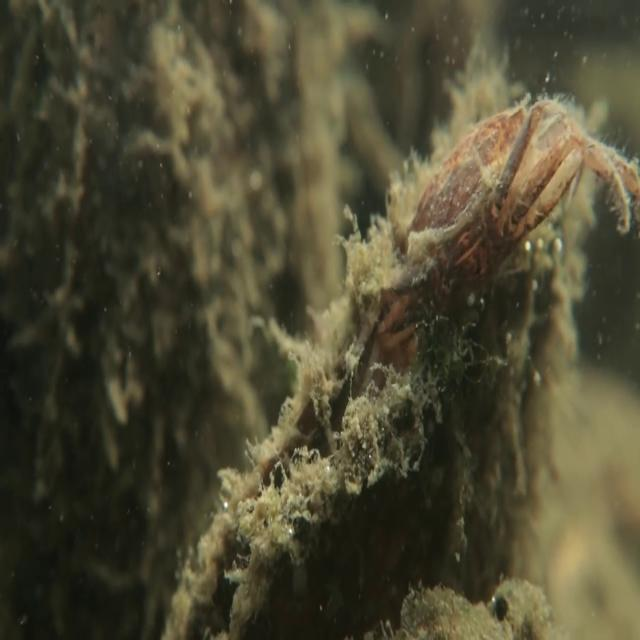Oyster-Open: (158, 103, 610, 634)
